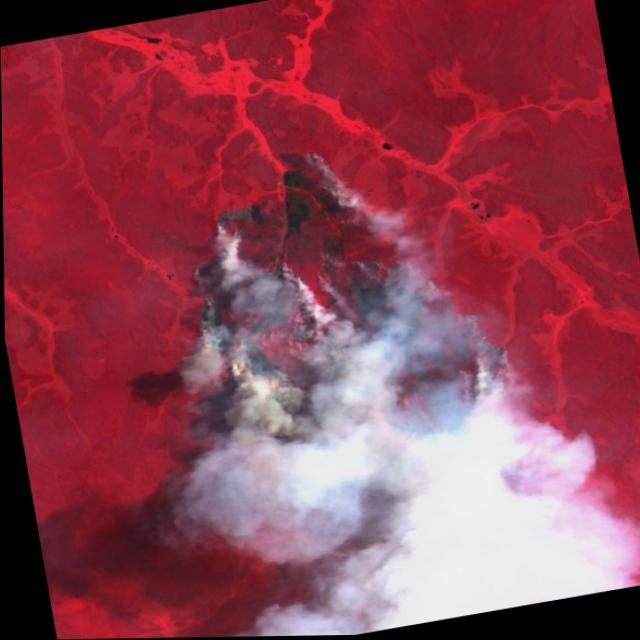fire: (159, 111, 558, 536)
